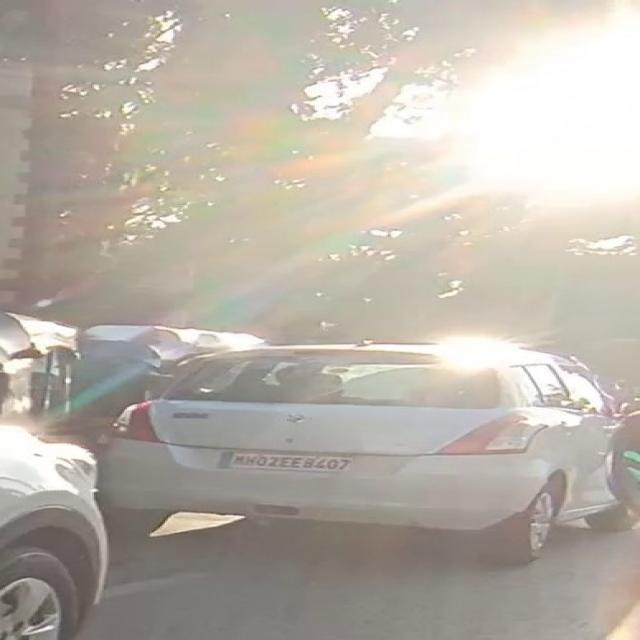license-plate: (214, 449, 354, 473)
